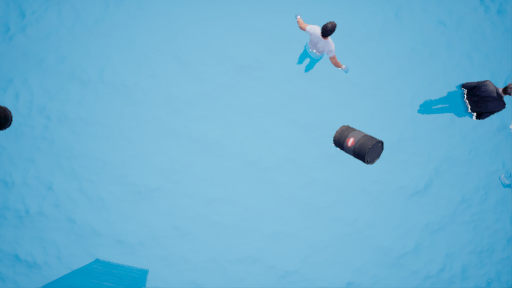person: (416, 74, 509, 127), (289, 12, 342, 82)
